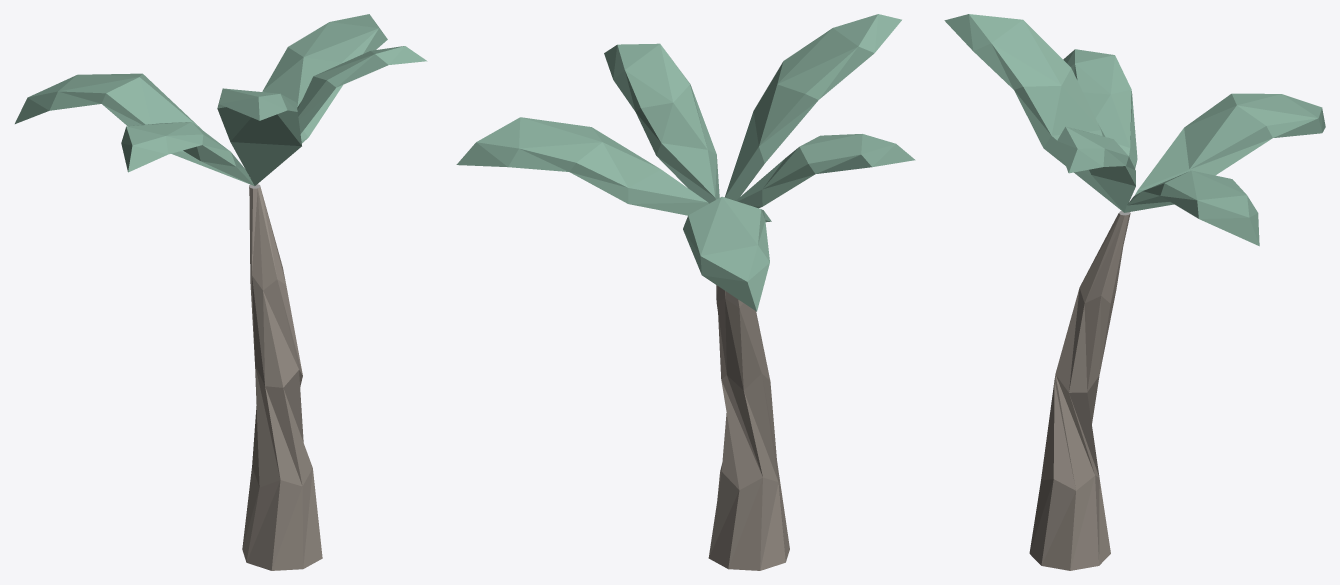
Rendered from palm01.fbx.
3 views of the same model, side by side, from view 1: azimuth 30°, elevation 25°; view 2: azimuth 150°, elevation 25°; view 3: azimuth 270°, elevation 25° (orthographic). The views are drawn at different scales.
Parts seen in each view (by area): view 1: pCylinder2; view 2: pCylinder2; view 3: pCylinder2.
Boxes of the visible parts, box(x1,y1,x2,y2) form: pCylinder2: box(15, 14, 427, 570); pCylinder2: box(456, 14, 915, 570); pCylinder2: box(944, 14, 1325, 570).
Size of the model in its own units: 0.078 by 0.1087 by 0.0747.
